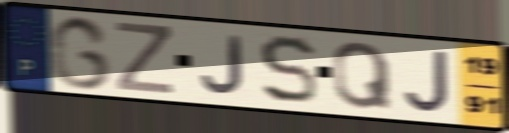G: (49, 14, 114, 92)
J: (402, 48, 452, 114), (198, 33, 247, 97)
Q: (330, 40, 395, 112)
S: (256, 32, 319, 107)
Z: (113, 19, 176, 96)
